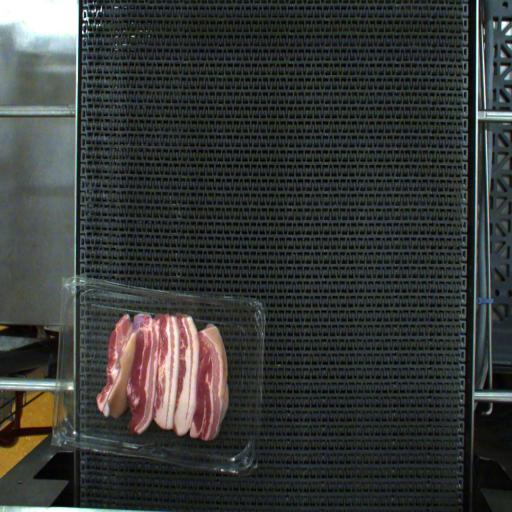twisted-meat: (96, 326, 142, 415)
